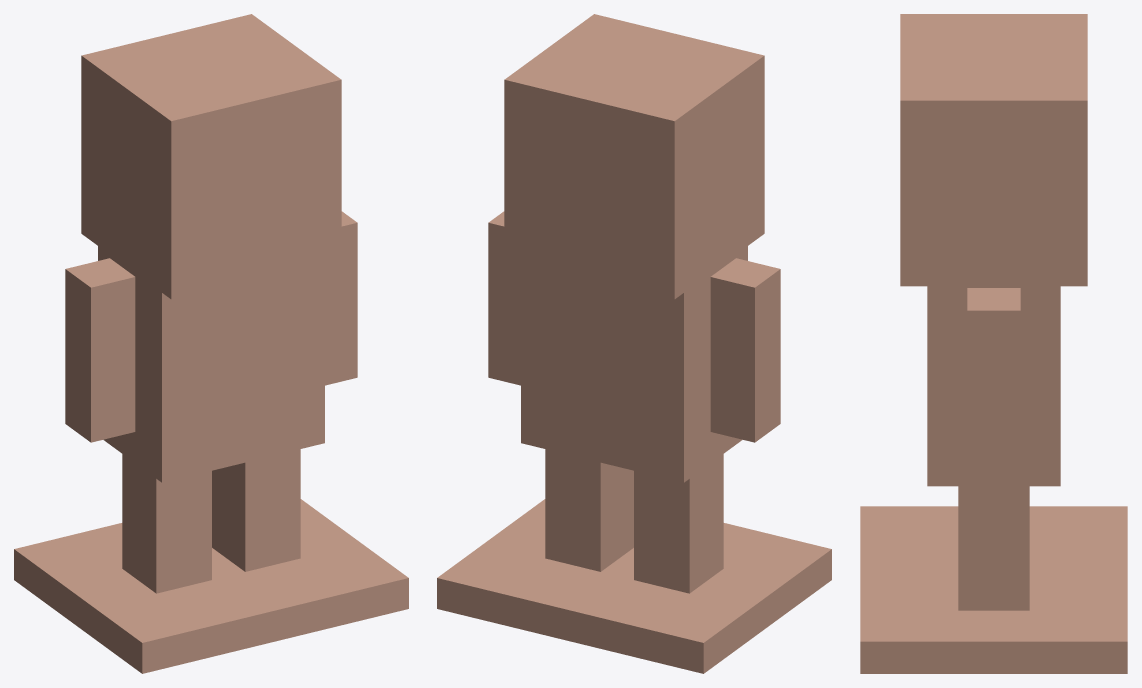
The model's file is demo-figurine.glb.
3 renders of one model, left to right at view 1: azimuth 30°, elevation 25°; view 2: azimuth 150°, elevation 25°; view 3: azimuth 270°, elevation 25°, orthographic. The views are drawn at different scales.
Visible parts, largest first — view 1: figurine; view 2: figurine; view 3: figurine.
Boxes of the visible parts, x1,y1,x2,y2 form: figurine: (14, 14, 408, 673); figurine: (437, 14, 831, 673); figurine: (860, 14, 1127, 673).
Bounding box in the file's own units: 0.72 × 1.36 × 0.6.
